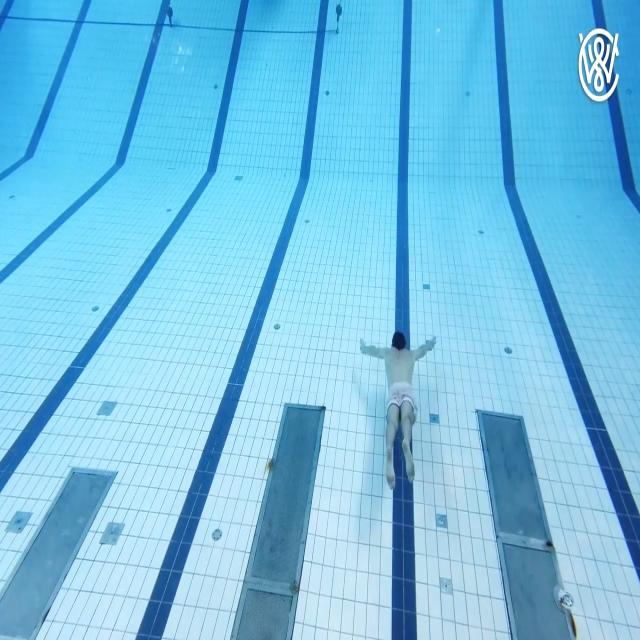Swimming: (358, 328, 438, 491)
